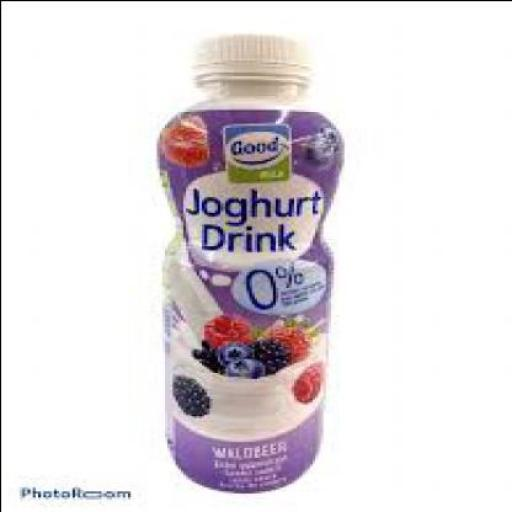plastic: (156, 32, 340, 490), (187, 30, 311, 78)
